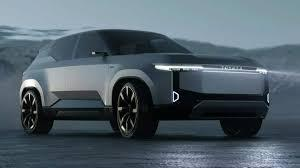toyota: (219, 63, 248, 72)
